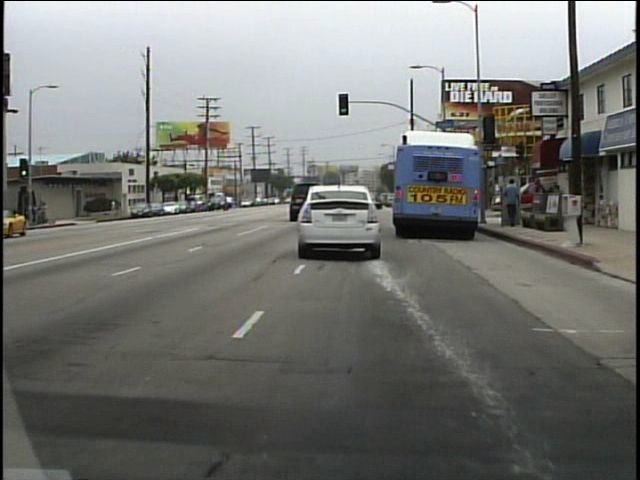person: (499, 176, 522, 232), (110, 196, 121, 218)
